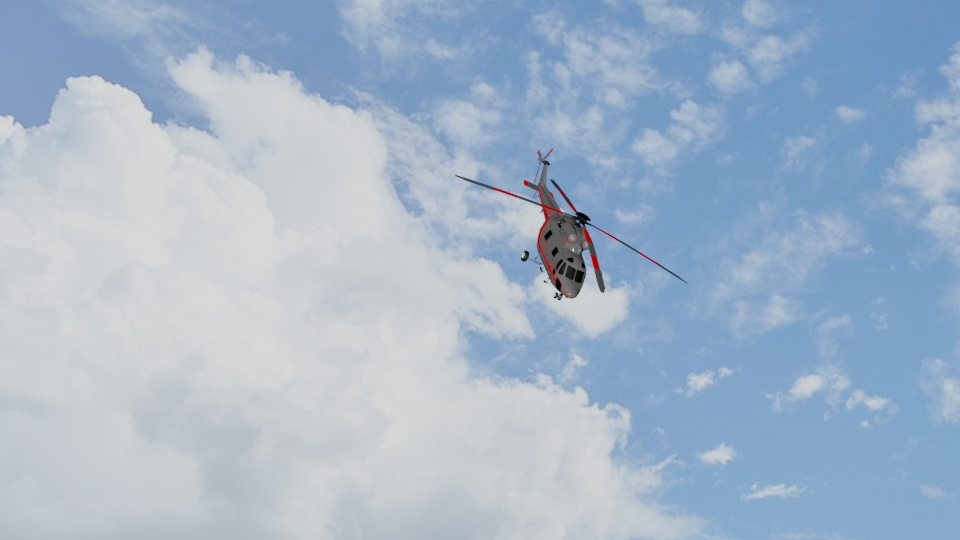heli: (454, 149, 688, 300)
